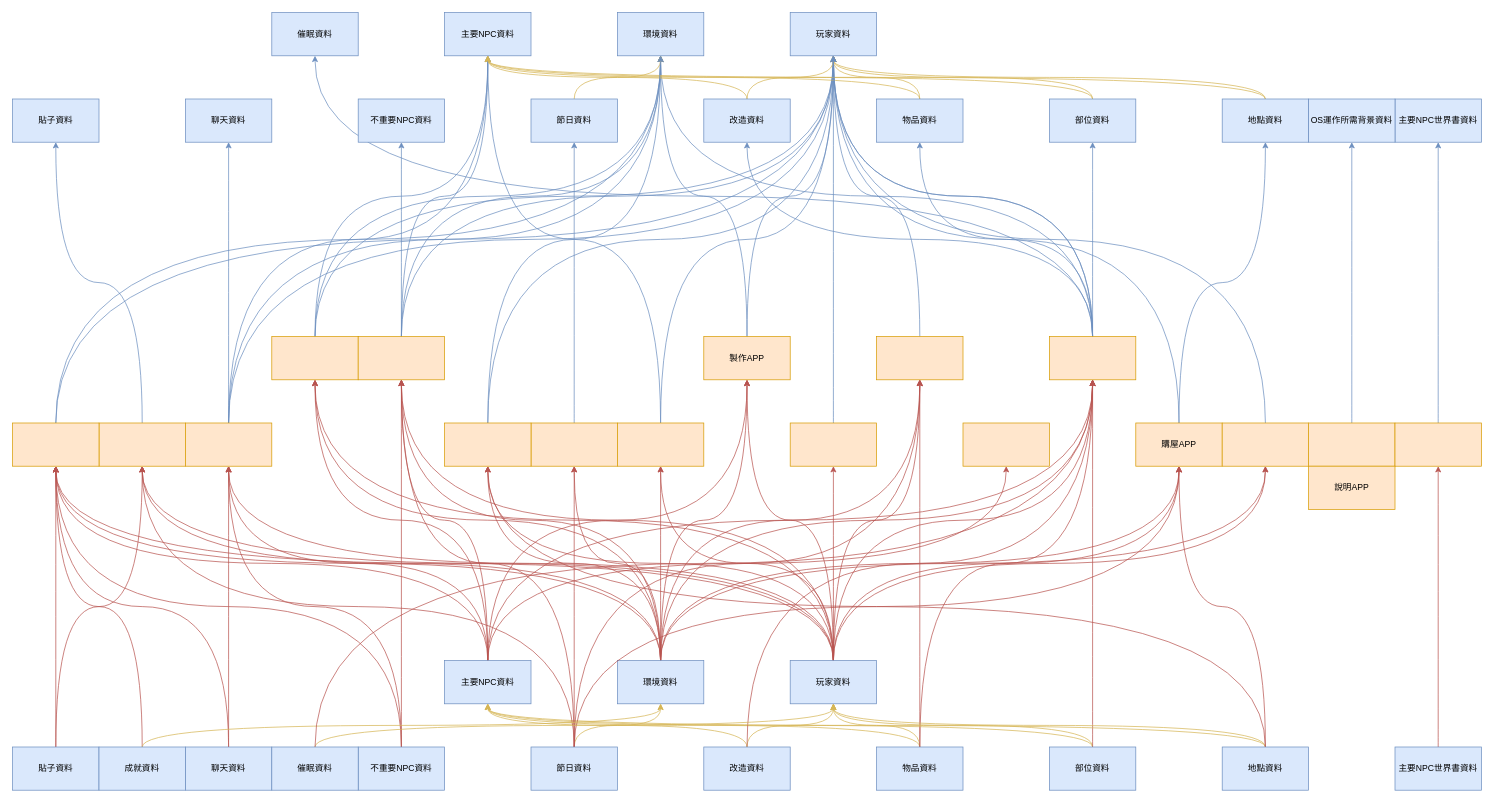
This 1494x803 diagram has some shape labels left out. The box of each missing label's shape, as (x1, y1, x2, y2) in pixels:
NPC背景編輯APP: (1394, 422, 1481, 466)
交易APP: (876, 336, 963, 380)
人物監控APP: (962, 422, 1049, 466)
催眠APP: (617, 422, 704, 466)
匿名板APP: (98, 422, 185, 466)
地圖APP: (444, 422, 531, 466)
妓院APP: (357, 336, 445, 380)
學習通APP: (1221, 422, 1309, 466)
成就APP: (12, 422, 99, 466)
日曆APP: (530, 422, 617, 466)
研發APP: (1049, 336, 1136, 380)
聊天APP: (185, 422, 272, 466)
背包APP: (789, 422, 877, 466)
設定APP: (1308, 422, 1395, 466)
身體改造APP: (271, 336, 358, 380)
